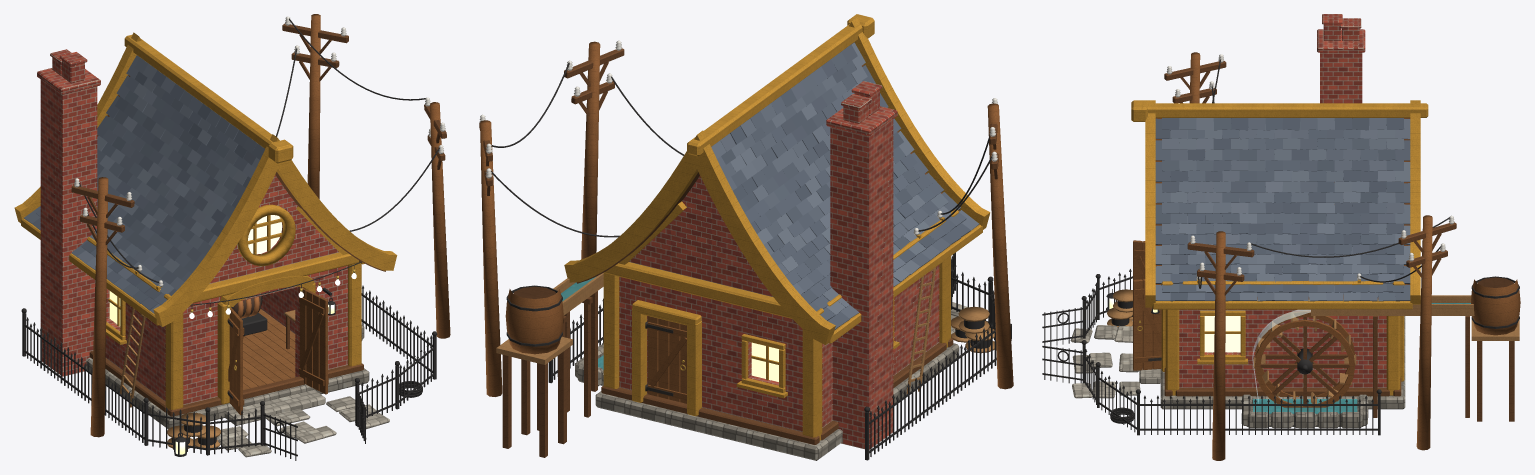
The model's file is electricity_room.glb.
3 renders of one model, left to right at view 1: azimuth 30°, elevation 25°; view 2: azimuth 150°, elevation 25°; view 3: azimuth 270°, elevation 25°, orthographic. The views are drawn at different scales.
Parts seen in each view (by area): view 1: ELEC_ExteriorStatic, ELEC_Roof, ELEC_PowerPole_01, ELEC_PowerPole_03, ELEC_PowerPole_02, ELEC_Door_R, ELEC_Door_L, ELEC_Cables, ELEC_Generator; view 2: ELEC_ExteriorStatic, ELEC_Roof, ELEC_PowerPole_03, ELEC_PowerPole_01, ELEC_PowerPole_02, ELEC_Door_Back, ELEC_Cables; view 3: ELEC_Roof, ELEC_ExteriorStatic, ELEC_WaterWheel, ELEC_PowerPole_03, ELEC_PowerPole_02, ELEC_Door_R, ELEC_PowerPole_01, ELEC_PoolWater, ELEC_Cables, ELEC_Door_L.
Boxes of the visible parts, bbox=[...] form: ELEC_ExteriorStatic: bbox=[21, 49, 437, 460]; ELEC_Roof: bbox=[14, 32, 397, 326]; ELEC_PowerPole_01: bbox=[71, 177, 134, 437]; ELEC_PowerPole_03: bbox=[424, 97, 450, 338]; ELEC_PowerPole_02: bbox=[282, 14, 348, 199]; ELEC_Door_R: bbox=[299, 287, 328, 394]; ELEC_Door_L: bbox=[227, 307, 244, 414]; ELEC_Cables: bbox=[79, 18, 439, 282]; ELEC_Generator: bbox=[231, 294, 269, 335]; ELEC_ExteriorStatic: bbox=[496, 81, 1011, 460]; ELEC_Roof: bbox=[564, 14, 990, 344]; ELEC_PowerPole_03: bbox=[564, 40, 624, 296]; ELEC_PowerPole_01: bbox=[987, 98, 1013, 389]; ELEC_PowerPole_02: bbox=[479, 114, 502, 396]; ELEC_Door_Back: bbox=[645, 316, 686, 403]; ELEC_Cables: bbox=[491, 62, 992, 237]; ELEC_Roof: bbox=[1131, 100, 1428, 309]; ELEC_ExteriorStatic: bbox=[1042, 14, 1520, 435]; ELEC_WaterWheel: bbox=[1253, 310, 1356, 407]; ELEC_PowerPole_03: bbox=[1187, 231, 1254, 460]; ELEC_PowerPole_02: bbox=[1398, 215, 1456, 450]; ELEC_Door_R: bbox=[1133, 279, 1161, 370]; ELEC_PowerPole_01: bbox=[1164, 52, 1226, 103]; ELEC_PoolWater: bbox=[1253, 303, 1470, 413]; ELEC_Cables: bbox=[1198, 57, 1449, 288]; ELEC_Door_L: bbox=[1133, 240, 1145, 279].
Bounding box in the file's own units: 10.3 × 8.21 × 11.91.
10 materials, 5 textured.
